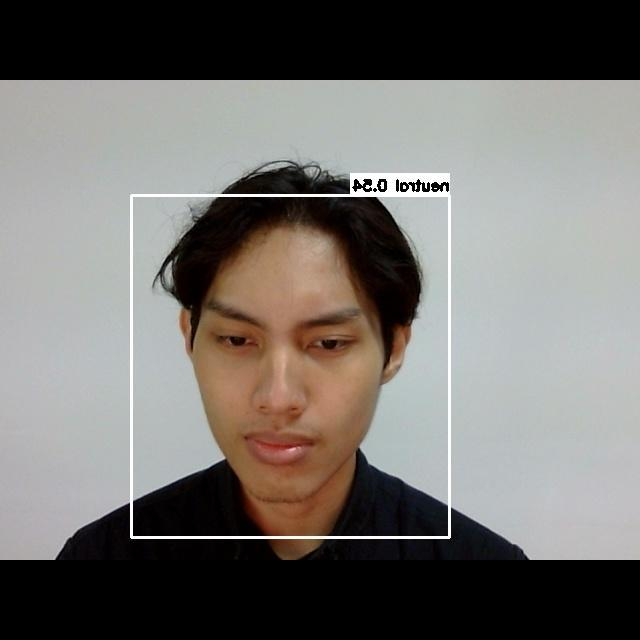Angry: (191, 282, 394, 474)
